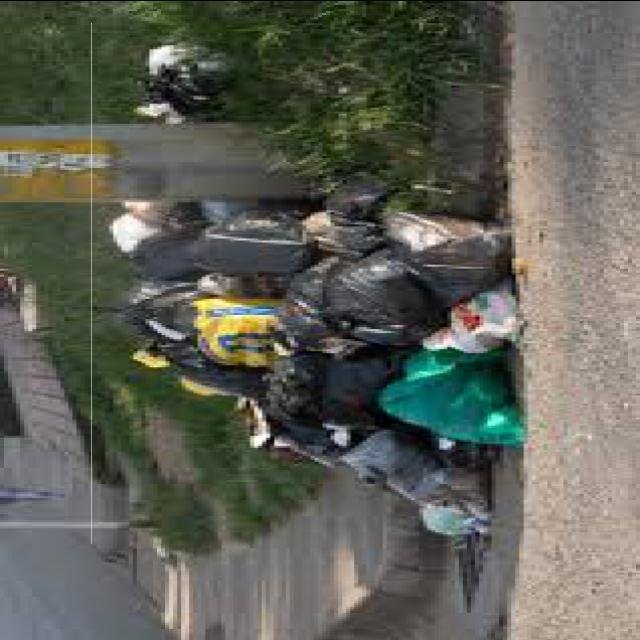Trashbag: (128, 284, 270, 401), (400, 214, 505, 291), (279, 346, 381, 420), (336, 262, 428, 344), (133, 50, 241, 116), (210, 221, 308, 284), (134, 212, 206, 293)
